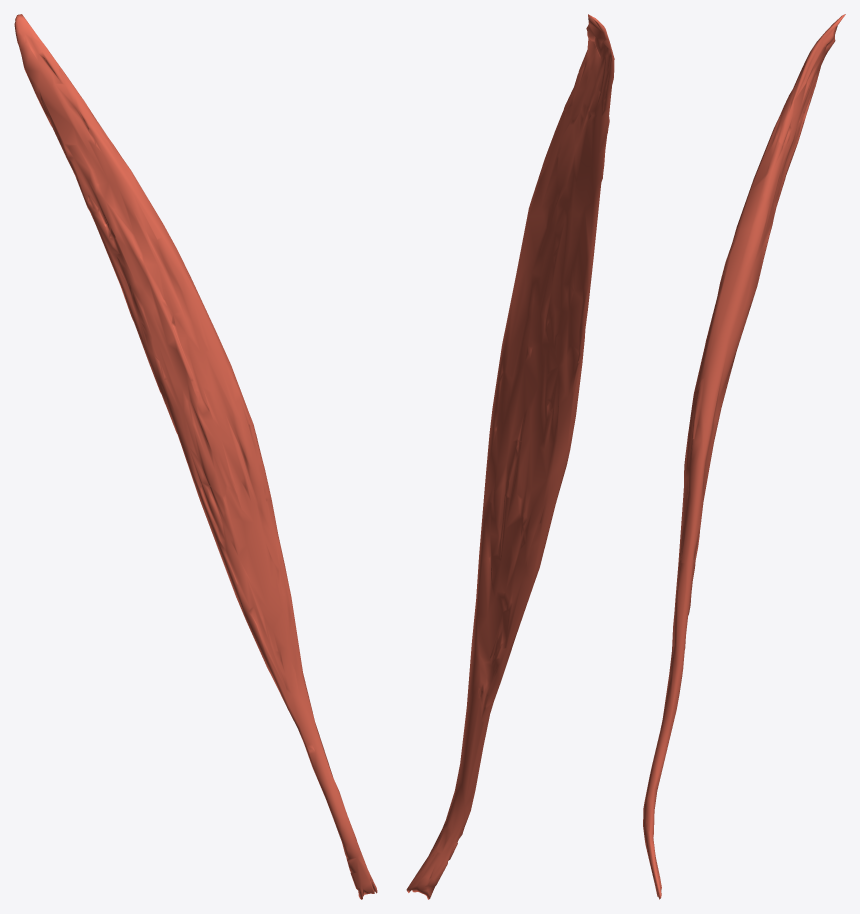
File: flexor-carpi-radialis.glb
3 renders of one model, left to right at view 1: azimuth 30°, elevation 25°; view 2: azimuth 150°, elevation 25°; view 3: azimuth 270°, elevation 25°, orthographic. The views are drawn at different scales.
Visible parts, largest first — view 1: Flexor carpi radialis.l; view 2: Flexor carpi radialis.l; view 3: Flexor carpi radialis.l.
Boxes of the visible parts, x1=… form: Flexor carpi radialis.l: x1=14, y1=14, x2=377, y2=899; Flexor carpi radialis.l: x1=406, y1=14, x2=614, y2=899; Flexor carpi radialis.l: x1=643, y1=14, x2=845, y2=899.
Size of the model in its own units: 0.0906 by 0.2858 by 0.0677.
